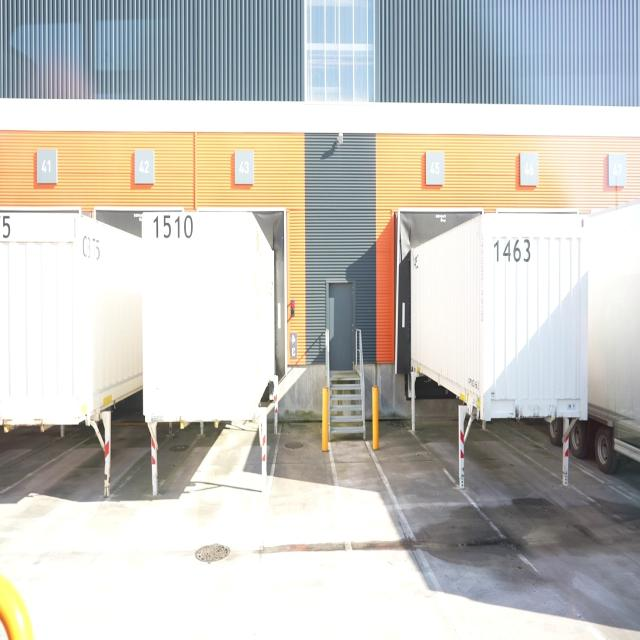Code: (150, 209, 195, 243), (491, 235, 533, 268)
